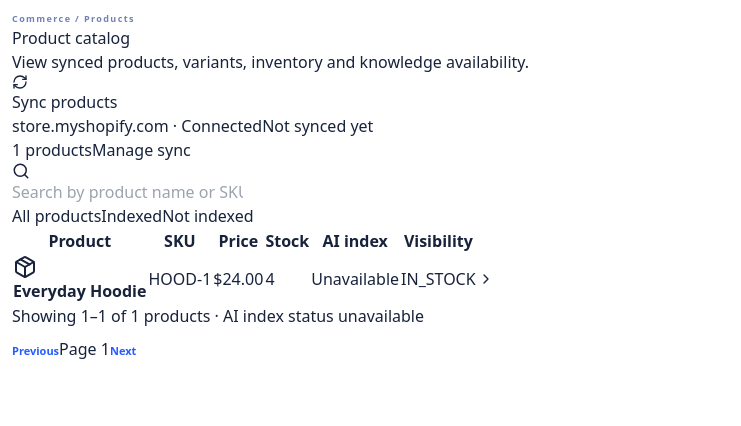
Test: Shopify dashboard connection regression › keeps the last product results visible during refresh and after a refresh error
Expected: the text "Everyday Hoodie" is shown, [13,280,146,302]
In the field with placeholder "Search by product name or SKU...": (128, 192) [12,180,243,204], type "hoodie"
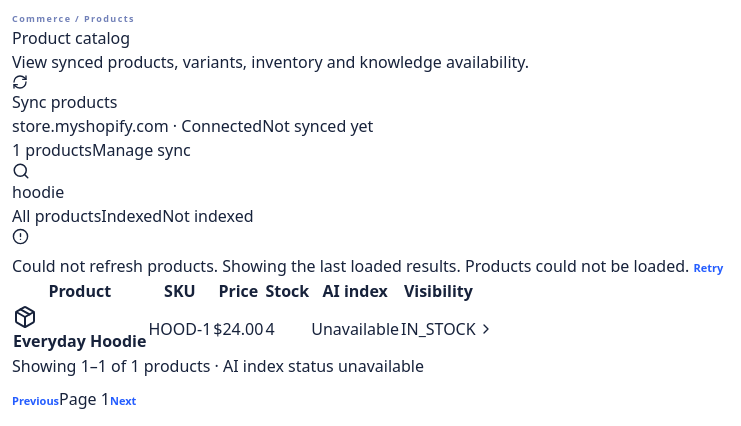
Expected: the text "Everyday Hoodie" is shown, [13,330,146,352]
Now the text "Could not refresh products. Showing the last loaded results" is shown, box [12,254,689,276]
